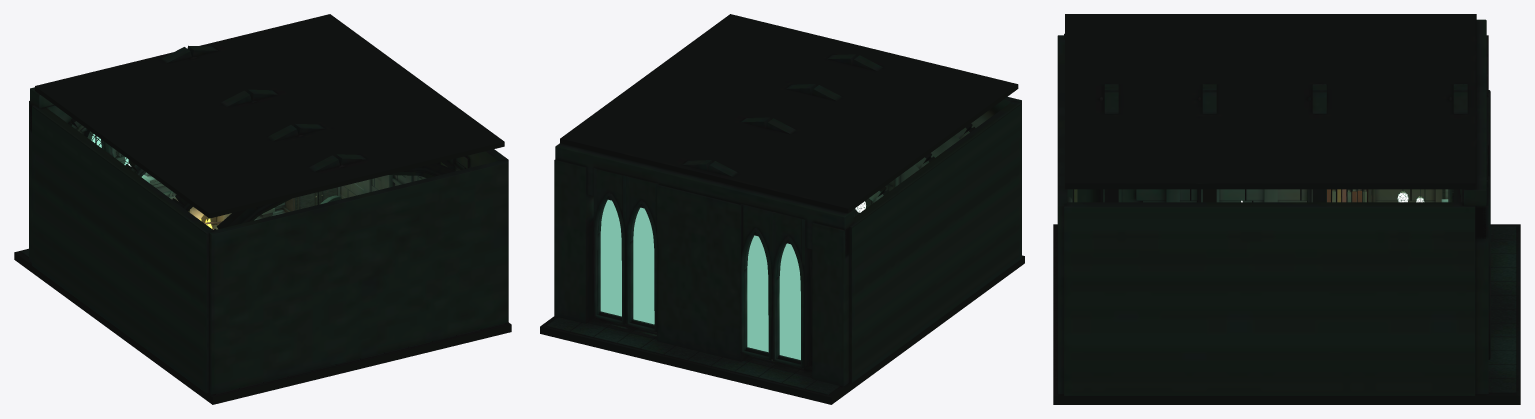
3 renders of one model, left to right at view 1: azimuth 30°, elevation 25°; view 2: azimuth 150°, elevation 25°; view 3: azimuth 270°, elevation 25°, orthographic. The views are drawn at different scales.
Visible parts, largest first — view 1: slytherin_architecture, slytherin_floor, slytherin_furniture; view 2: slytherin_architecture, slytherin_glow, slytherin_floor; view 3: slytherin_architecture, slytherin_floor, slytherin_details.
Part boxes in pixels (left/top/right/bottom): slytherin_architecture: left=29, top=14, right=508, bottom=394; slytherin_floor: left=14, top=208, right=511, bottom=404; slytherin_furniture: left=282, top=187, right=341, bottom=212; slytherin_architecture: left=554, top=14, right=1021, bottom=386; slytherin_glow: left=600, top=199, right=865, bottom=359; slytherin_floor: left=540, top=255, right=1024, bottom=404; slytherin_architecture: left=1057, top=14, right=1490, bottom=395; slytherin_floor: left=1053, top=224, right=1520, bottom=404; slytherin_details: left=1073, top=189, right=1425, bottom=202.
Bounding box in the file's own units: 16.8 × 10.27 × 19.08.
8 materials, 4 textured.
